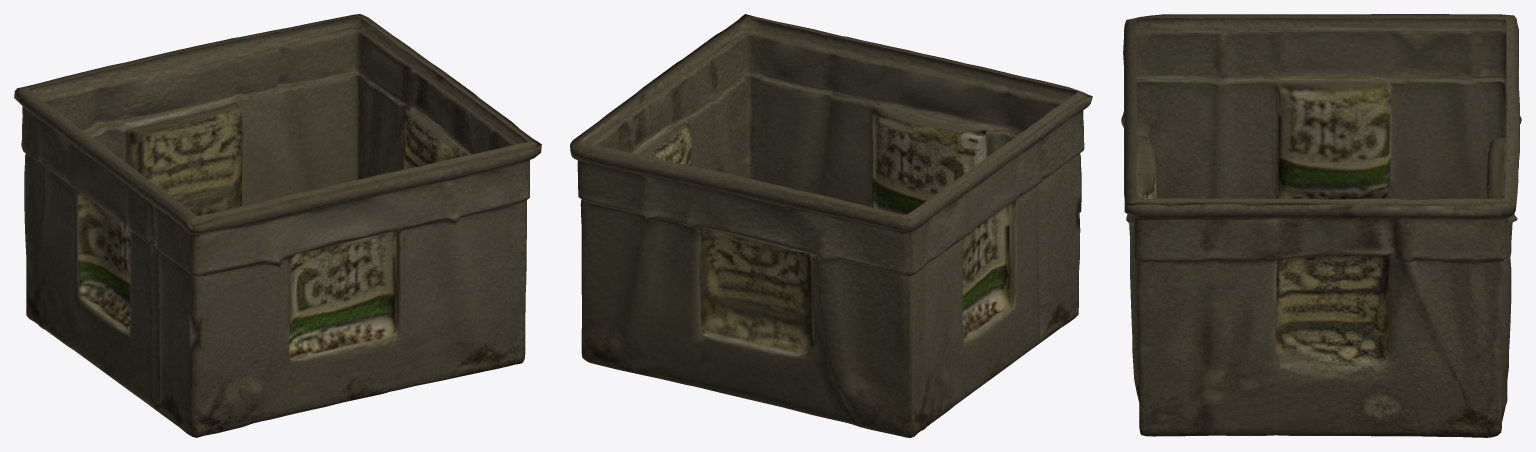
Rendered from tripo_node_c01fe346_LOD0.fbx.
3 renders of one model, left to right at view 1: azimuth 30°, elevation 25°; view 2: azimuth 150°, elevation 25°; view 3: azimuth 270°, elevation 25°, orthographic. The views are drawn at different scales.
Visible parts, largest first — view 1: tripo_node_c01fe346_LOD0; view 2: tripo_node_c01fe346_LOD0; view 3: tripo_node_c01fe346_LOD0.
Part boxes in pixels (bbox=[...]): tripo_node_c01fe346_LOD0: bbox=[14, 14, 541, 437]; tripo_node_c01fe346_LOD0: bbox=[570, 14, 1092, 437]; tripo_node_c01fe346_LOD0: bbox=[1121, 14, 1521, 437].
Size of what is drawn, in the model's own units: 99.8 by 62.7 by 91.6.
Materials: 1 (1 with a texture image).
